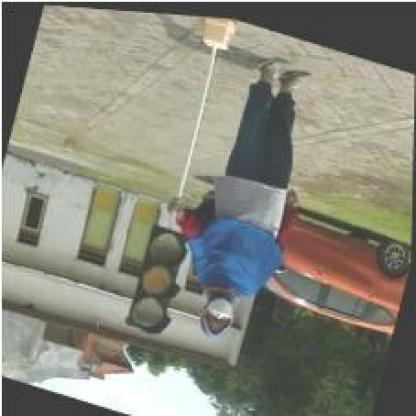yellow: (126, 220, 190, 333)
